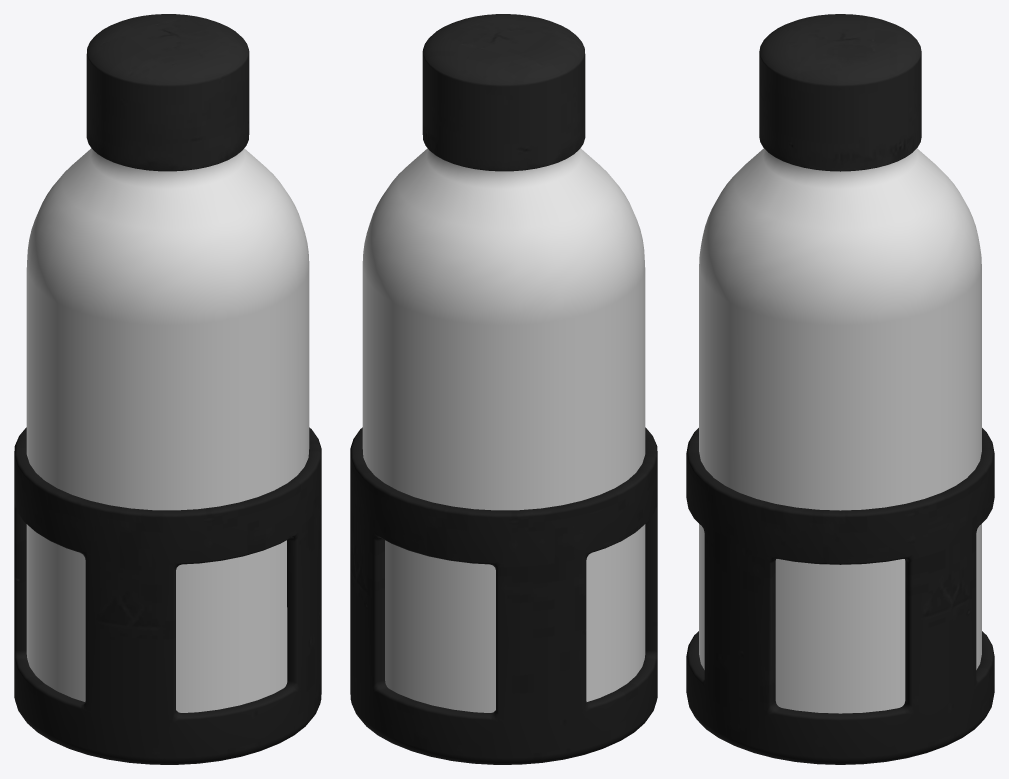
The model's file is producto.glb.
The picture shows the model from 3 angles, left to right: view 1: azimuth 30°, elevation 25°; view 2: azimuth 150°, elevation 25°; view 3: azimuth 270°, elevation 25°; orthographic projection.
Parts seen in each view (by area): view 1: WaterBottle; view 2: WaterBottle; view 3: WaterBottle.
Boxes of the visible parts, x1=… form: WaterBottle: x1=14, y1=14, x2=321, y2=764; WaterBottle: x1=350, y1=14, x2=657, y2=764; WaterBottle: x1=686, y1=14, x2=994, y2=764.
Bounding box in the file's own units: 0.1089 × 0.2604 × 0.1089.
1 material, 1 textured.
